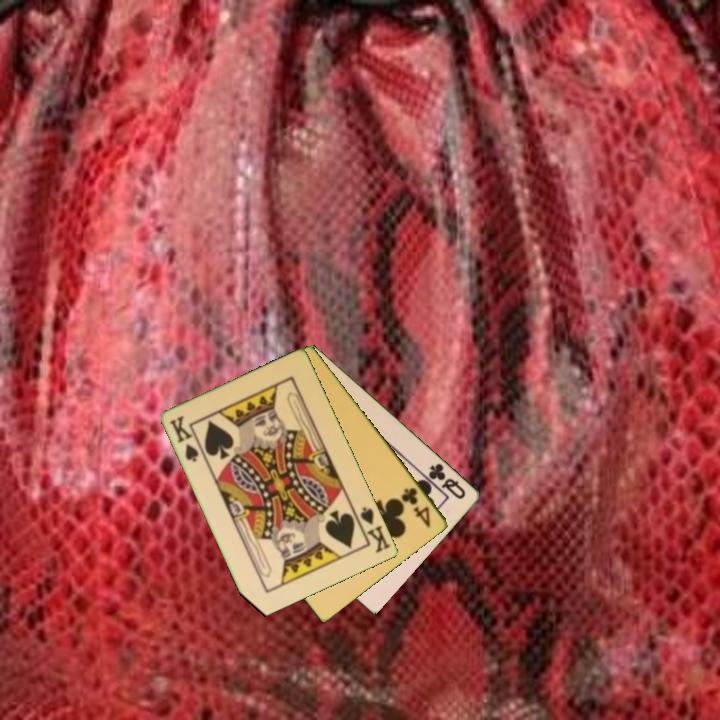4c: (398, 484, 434, 530)
Ks: (357, 504, 394, 556), (166, 412, 202, 465)
Qc: (425, 460, 469, 502)
